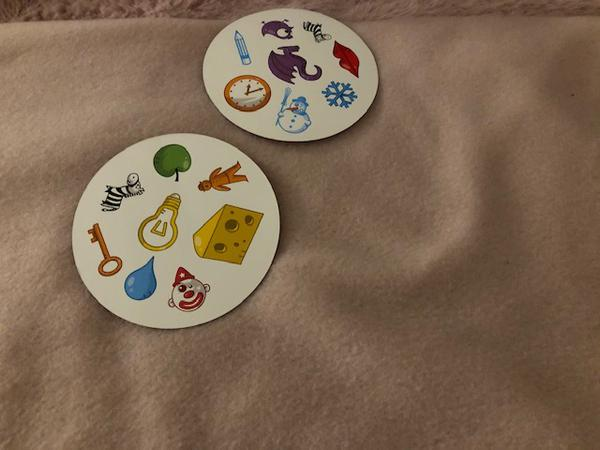ampoule: (135, 189, 188, 256)
bonhomme: (195, 157, 251, 200)
bonhomme_neige: (273, 85, 313, 135)
bouche: (332, 38, 362, 79)
cle: (84, 217, 129, 282)
clown: (167, 266, 211, 313)
crayon: (232, 29, 253, 67)
dragon: (266, 41, 324, 88)
flocon: (320, 78, 359, 109)
fromage: (192, 201, 265, 268)
goutte: (125, 253, 160, 304)
horloge: (223, 74, 270, 112)
oiseau: (259, 17, 296, 41)
pomme: (148, 141, 197, 187)
zebre: (96, 166, 148, 221), (300, 17, 333, 44)
